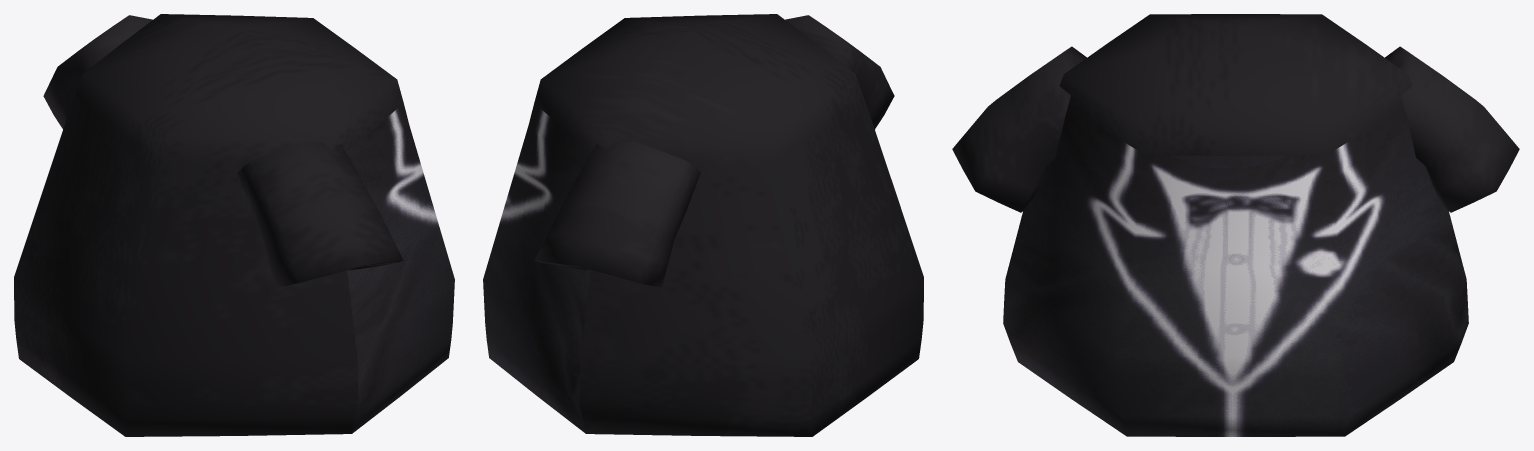
File: Tux.glb
3 views of the same model, side by side, from view 1: azimuth 30°, elevation 25°; view 2: azimuth 150°, elevation 25°; view 3: azimuth 270°, elevation 25° (orthographic). The views are drawn at different scales.
Parts seen in each view (by area): view 1: Tux; view 2: Tux; view 3: Tux.
Boxes of the visible parts, x1=… form: Tux: x1=14, y1=14, x2=454, y2=436; Tux: x1=483, y1=14, x2=923, y2=436; Tux: x1=952, y1=14, x2=1519, y2=436.
Bounding box in the file's own units: 1.48 × 1.5 × 2.16.
Materials: 1 (1 with a texture image).
